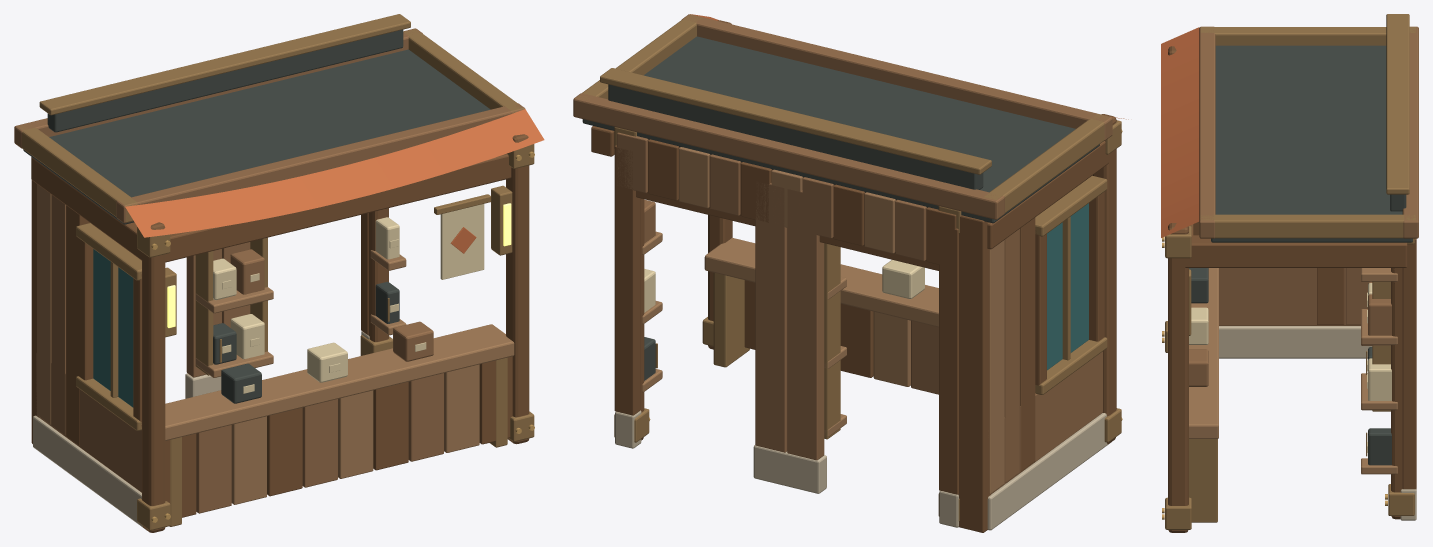
File: west_trader.glb
The picture shows the model from 3 angles, left to right: view 1: azimuth 30°, elevation 25°; view 2: azimuth 150°, elevation 25°; view 3: azimuth 270°, elevation 25°; orthographic projection. The views are drawn at different scales.
Visible parts, largest first — view 1: west_trader; view 2: west_trader; view 3: west_trader.
Boxes of the visible parts, left/top/right/bottom form: west_trader: left=14, top=14, right=544, bottom=532; west_trader: left=573, top=14, right=1128, bottom=532; west_trader: left=1161, top=14, right=1418, bottom=532.
Size of the model in its own units: 3.98 by 3.24 by 2.22.
